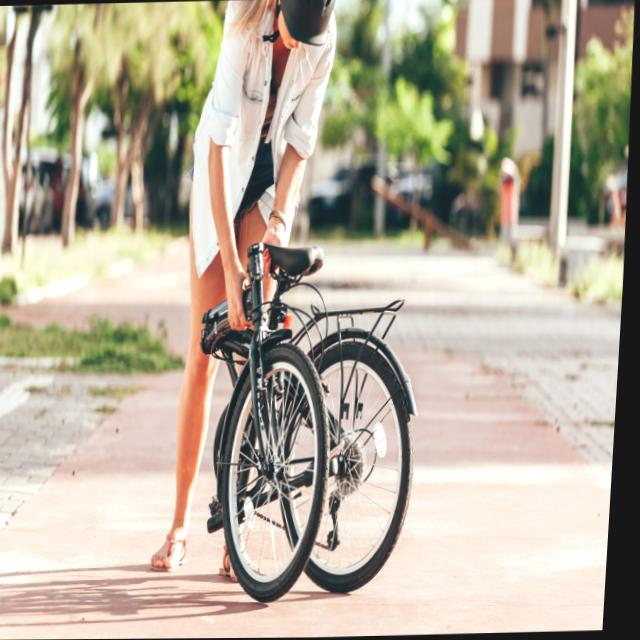folding-bike: (188, 240, 437, 609)
